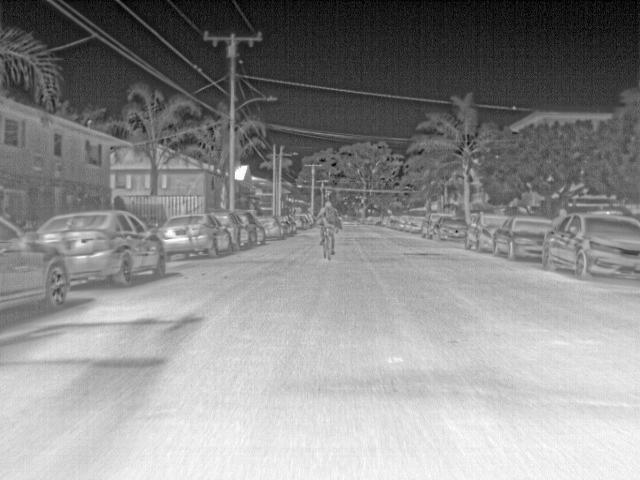car: (33, 208, 168, 286), (540, 212, 640, 281), (1, 216, 70, 311), (156, 213, 233, 262), (493, 216, 554, 260), (465, 211, 509, 253), (213, 212, 253, 249), (421, 212, 458, 239), (433, 216, 469, 242), (257, 215, 283, 240), (247, 216, 267, 248), (282, 213, 298, 237), (405, 213, 420, 233), (294, 213, 311, 230), (384, 213, 398, 227), (396, 214, 408, 230), (362, 213, 375, 226), (372, 214, 385, 227)
person: (320, 198, 339, 232)
